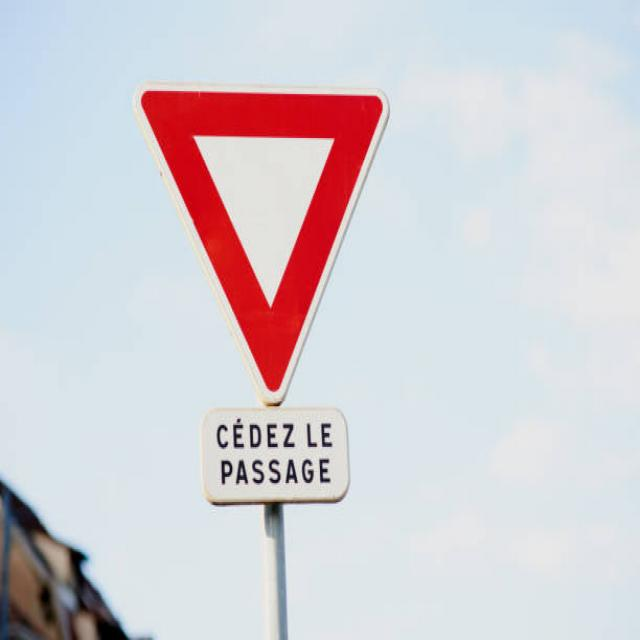give_way: (122, 80, 414, 407)
